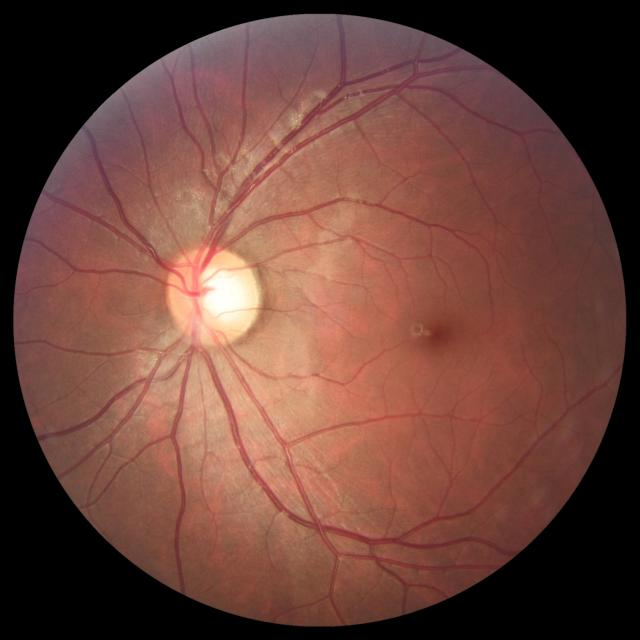OC: (196, 262, 251, 324)
OD: (166, 244, 262, 348)
